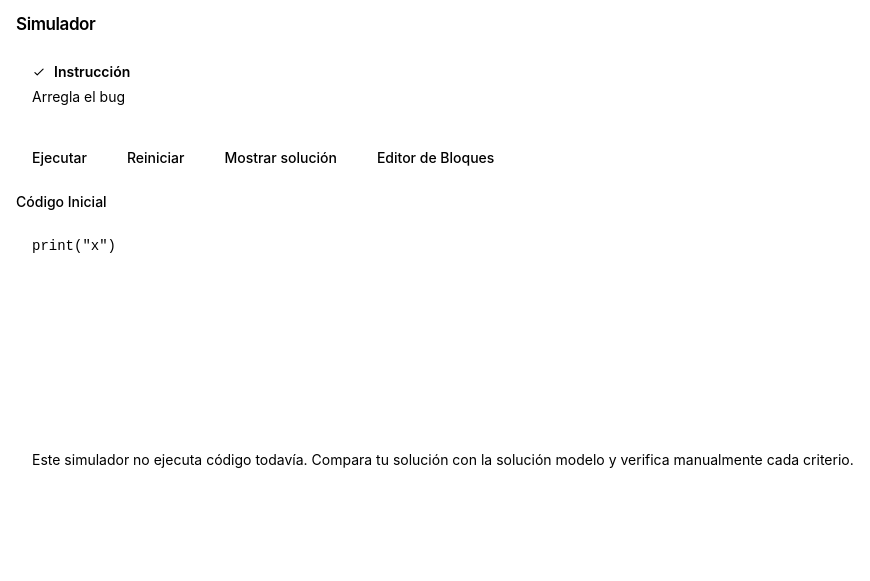
Scenario: SimulatorPanel › Reiniciar oculta el panel de salida
Click the button "Ejecutar" at (59, 158), box x1=16 y1=140 x2=103 y2=176
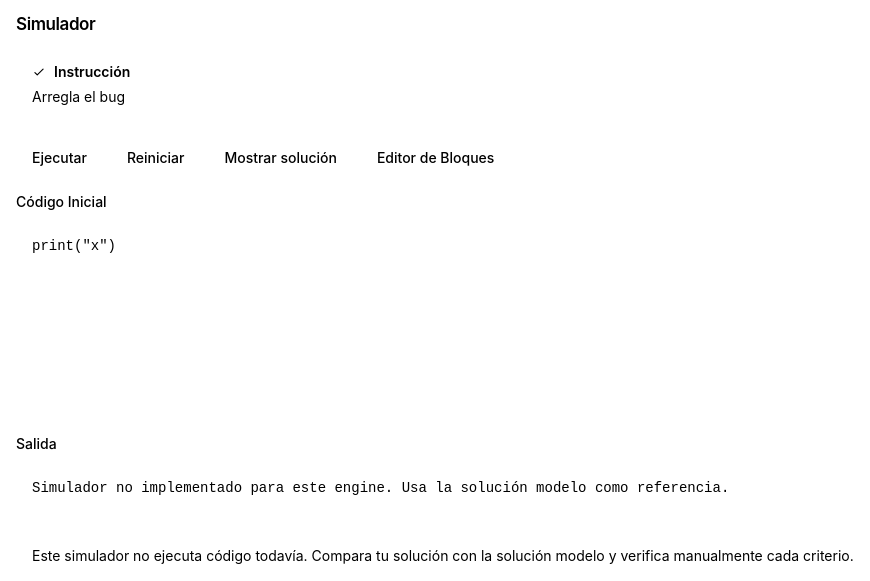
Check: the text "no implementado para este engine" is shown, box x1=32 y1=480 x2=729 y2=496
Click the button "Reiniciar" at (156, 158), box x1=111 y1=140 x2=200 y2=176
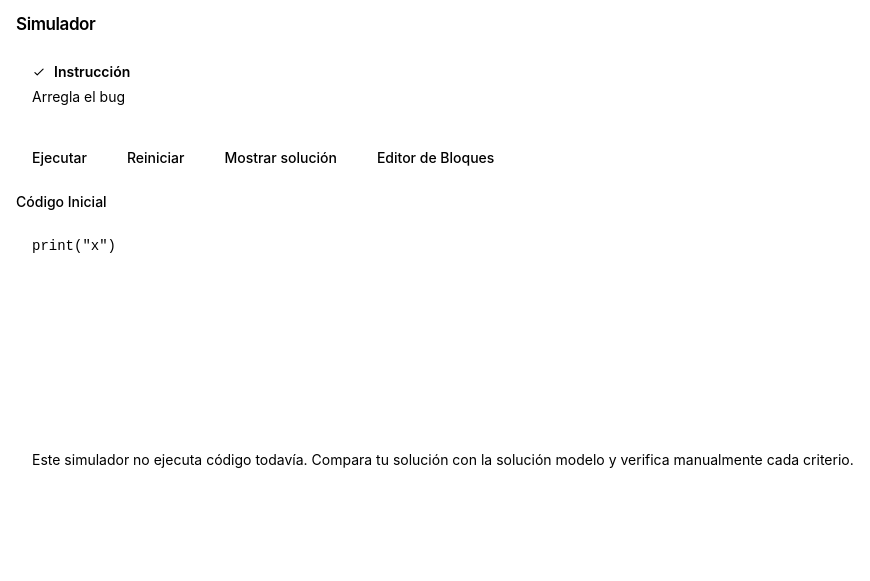
Check: the text "no implementado para este engine" is gone
